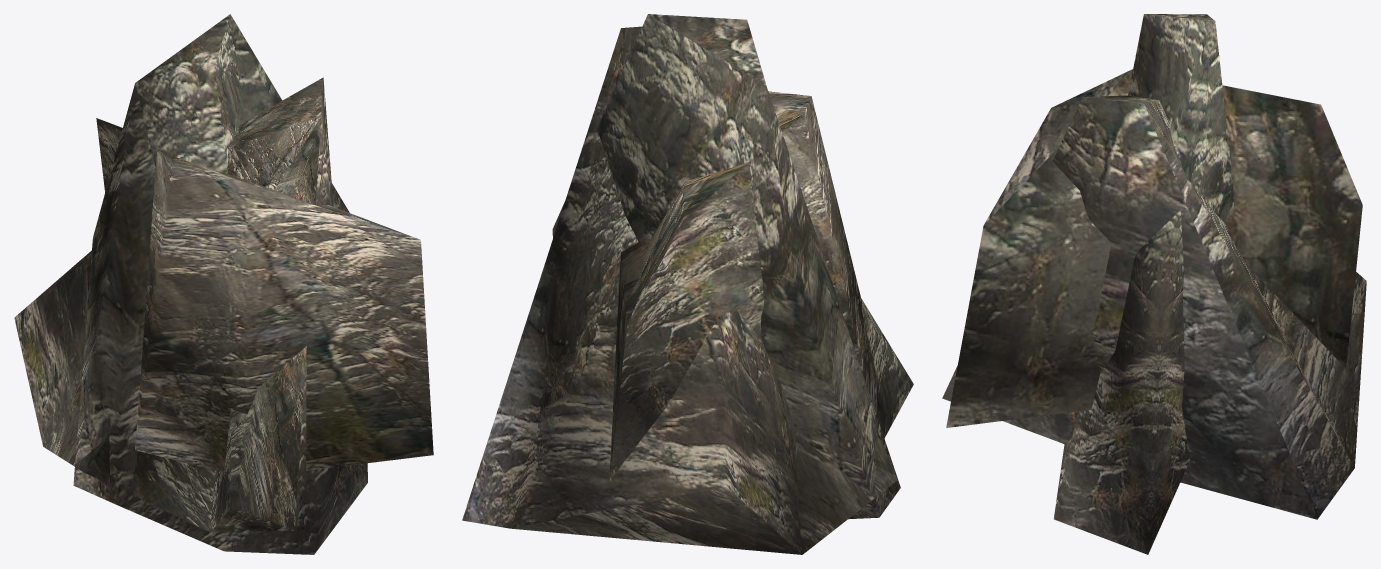
File: GrayRockPieces.gltf
3 renders of one model, left to right at view 1: azimuth 30°, elevation 25°; view 2: azimuth 150°, elevation 25°; view 3: azimuth 270°, elevation 25°, orthographic. The views are drawn at different scales.
Parts seen in each view (by area): view 1: GrayRockPiece4, GrayRockPiece2, GrayRockPiece3; view 2: GrayRockPiece3, GrayRockPiece2, GrayRockPiece4; view 3: GrayRockPiece4, GrayRockPiece3, GrayRockPiece2.
Boxes of the visible parts, x1=… form: GrayRockPiece4: x1=96, y1=118, x2=433, y2=472; GrayRockPiece2: x1=73, y1=14, x2=367, y2=554; GrayRockPiece3: x1=14, y1=77, x2=333, y2=532; GrayRockPiece3: x1=462, y1=26, x2=913, y2=554; GrayRockPiece2: x1=552, y1=14, x2=900, y2=519; GrayRockPiece4: x1=609, y1=91, x2=877, y2=481; GrayRockPiece4: x1=946, y1=69, x2=1362, y2=427; GrayRockPiece3: x1=942, y1=95, x2=1366, y2=519; GrayRockPiece2: x1=1053, y1=14, x2=1234, y2=554.
Bounding box in the file's own units: 2.43 × 3.83 × 2.97.
Materials: 1 (1 with a texture image).
